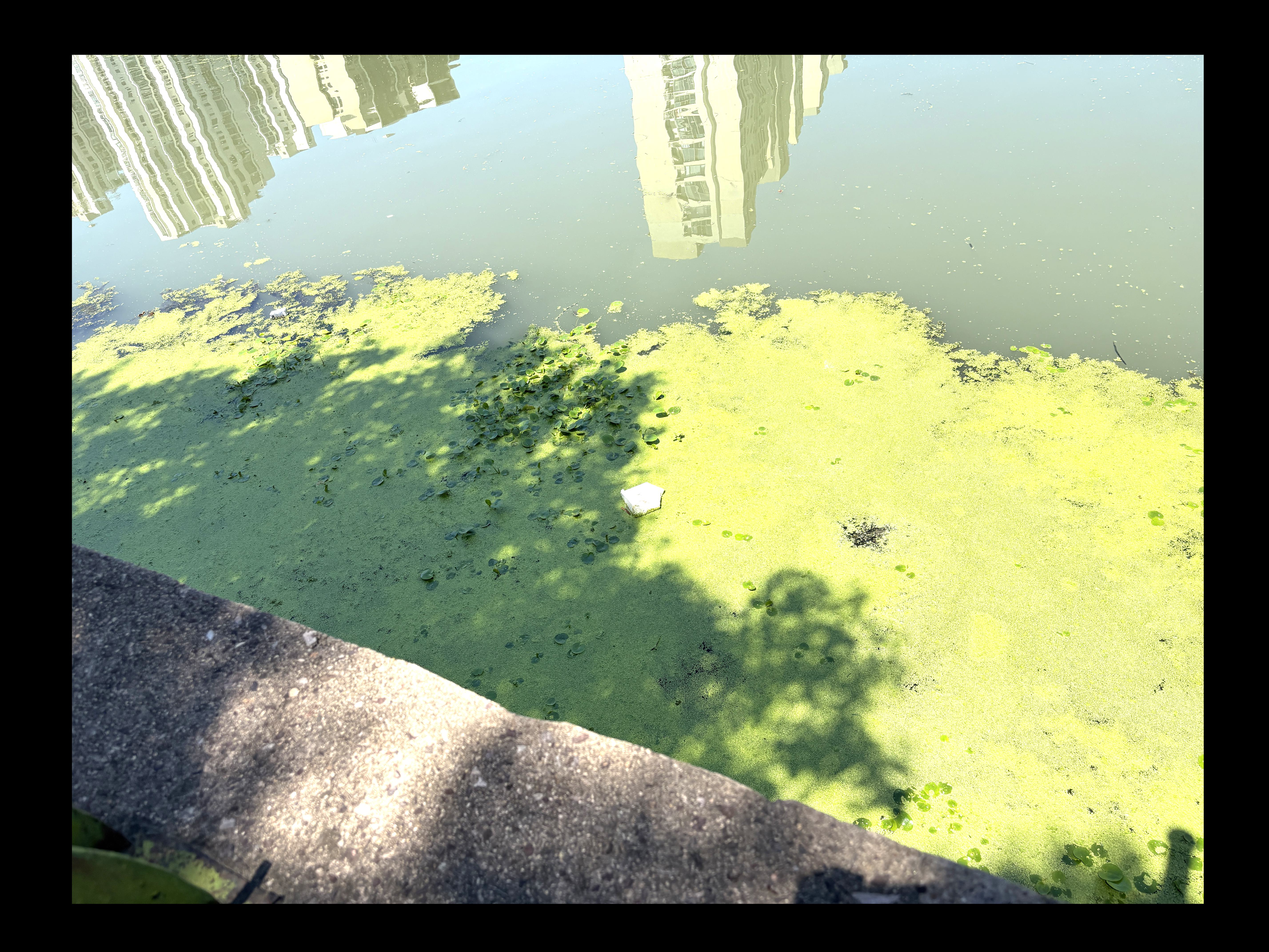Paper wastes: (269, 307, 289, 318)
Plastic wastes: (619, 482, 666, 512)
